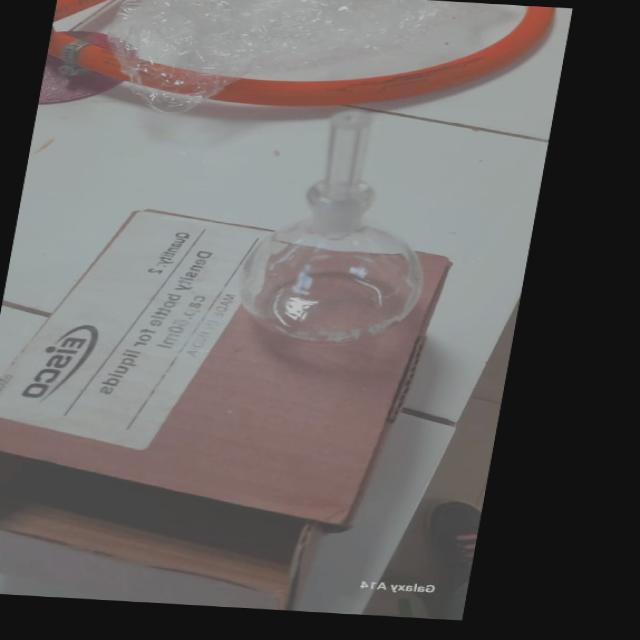Density Bottle for Liquids: (207, 103, 465, 360)
